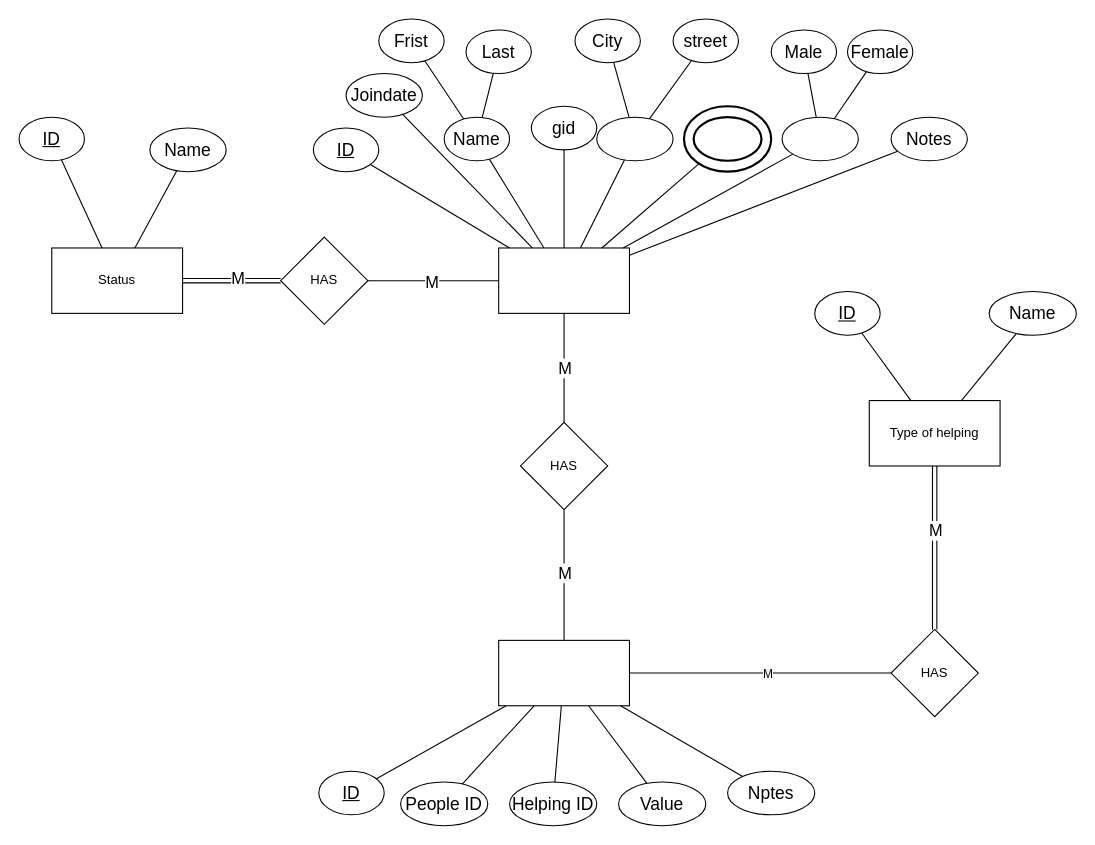
This 1095x845 diagram has some shape labels left out. The shapes that lost their labels are listed below. From the top down, each one's centre as x and y in pixels, then its label:
the point at 634,138: Location
the point at 727,138: Status ID
the point at 819,138: Child
the point at 563,280: People
the point at 563,672: Assistance
